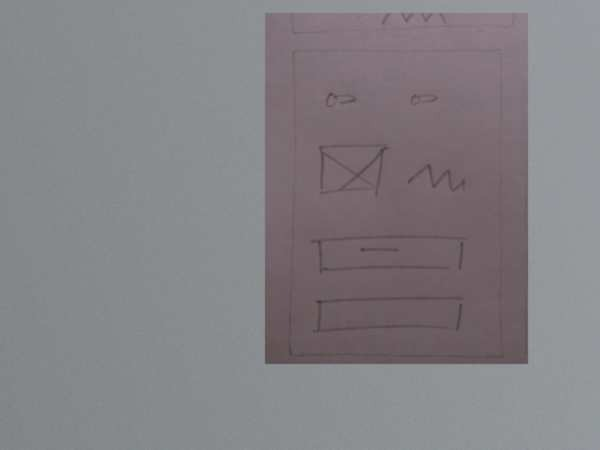button: (307, 233, 475, 278)
image: (312, 141, 393, 200)
switch: (319, 89, 364, 110), (404, 89, 448, 109)
text: (403, 157, 475, 198)
text_input: (307, 291, 474, 336)
